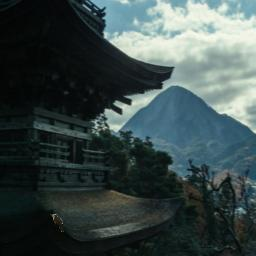Cuckoo: (50, 214, 64, 232)
